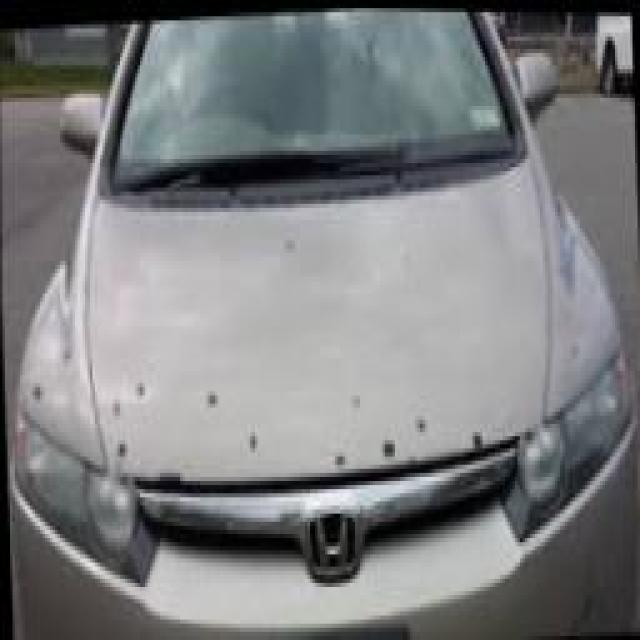Bonnet: (88, 151, 551, 490)
Fender: (12, 204, 93, 442)
